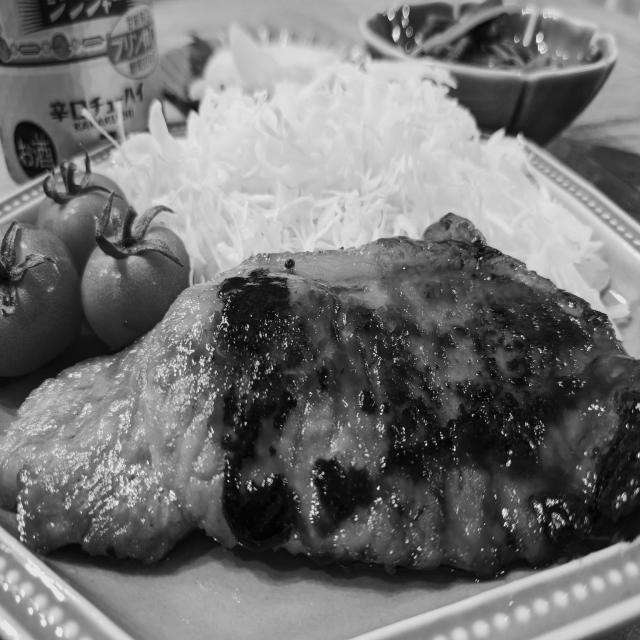overcooked pork: (0, 203, 640, 590)
